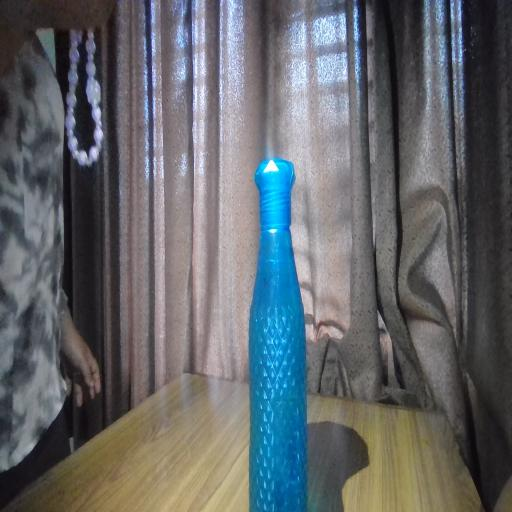Bottle: (238, 134, 333, 490)
